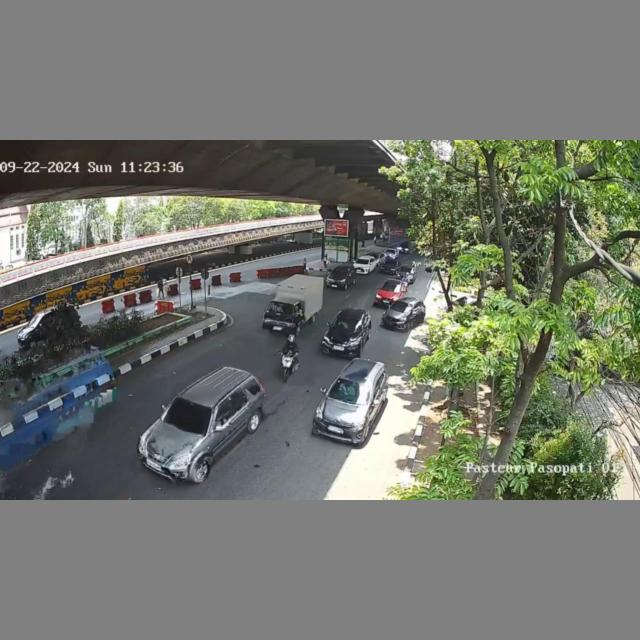windshield: (165, 398, 212, 435), (326, 379, 370, 406), (328, 315, 362, 332), (265, 302, 294, 316), (389, 300, 414, 314), (382, 282, 401, 292), (331, 266, 347, 275), (356, 259, 369, 264)
